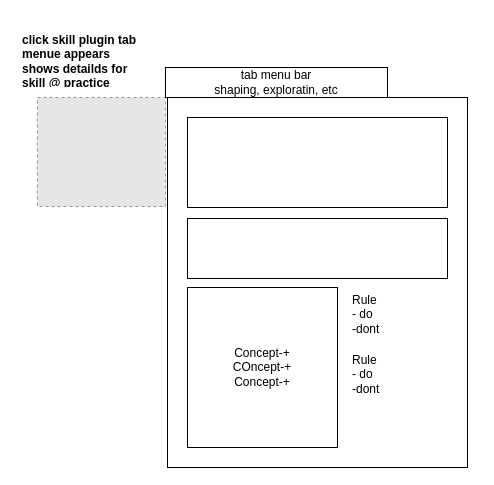
Image size: 494x485. Some labels were removed from this diagram. Grey dashed boxes stand in for pictures. Here are the shapes that lost their labels. From the top down, the box of each, then its label:
(186, 116, 448, 208): Image
(186, 218, 448, 278): Purpose
